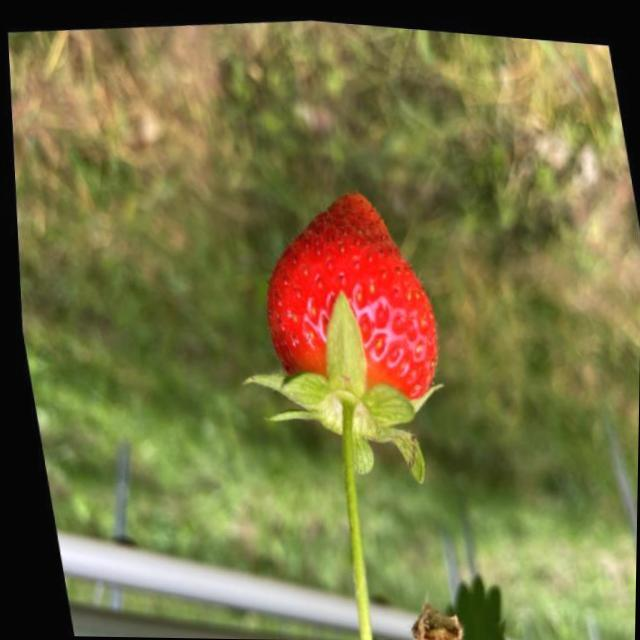stem: (246, 291, 430, 638)
strawberryR: (267, 192, 436, 397)
